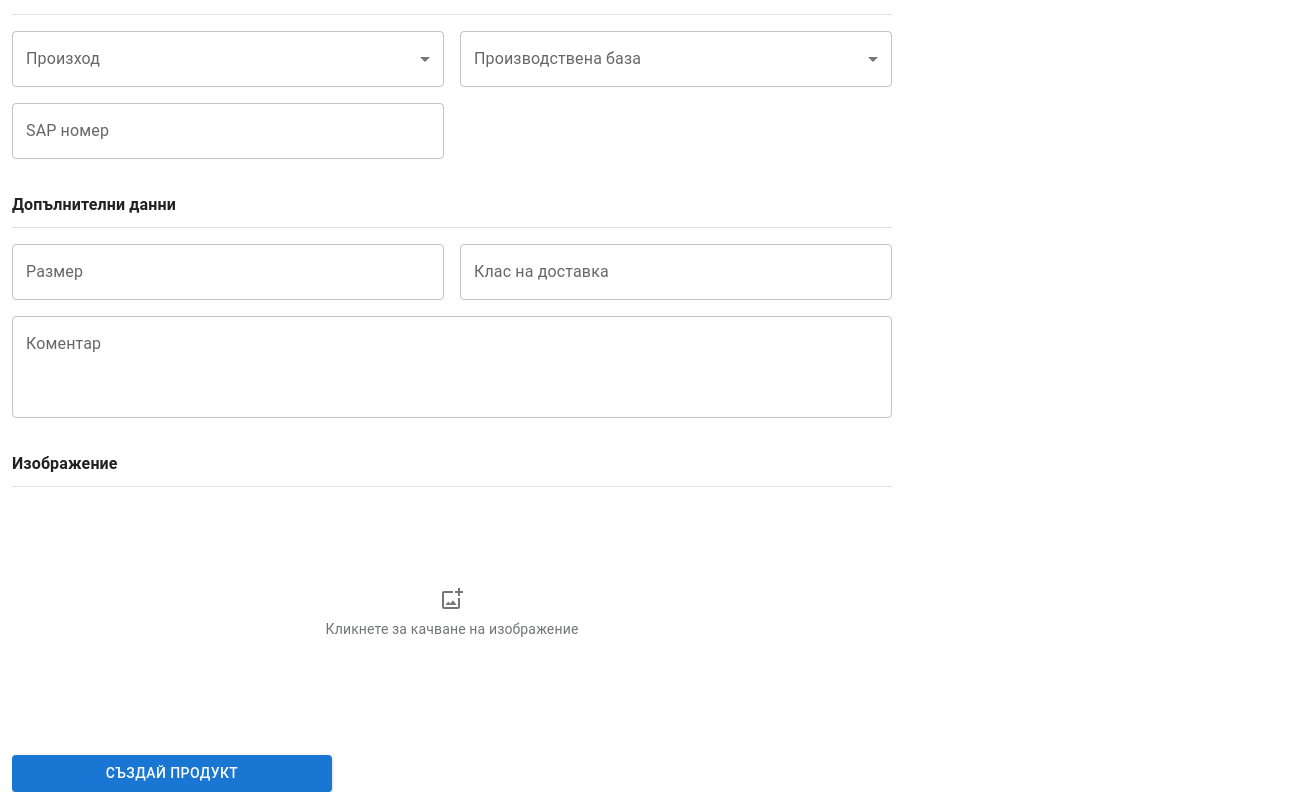
ProductForm › blocks submission and reports errors when required fields are empty
(page scrolled)
Click the button "Създай продукт" at (172, 773), box [12,755,332,791]
(page scrolled)
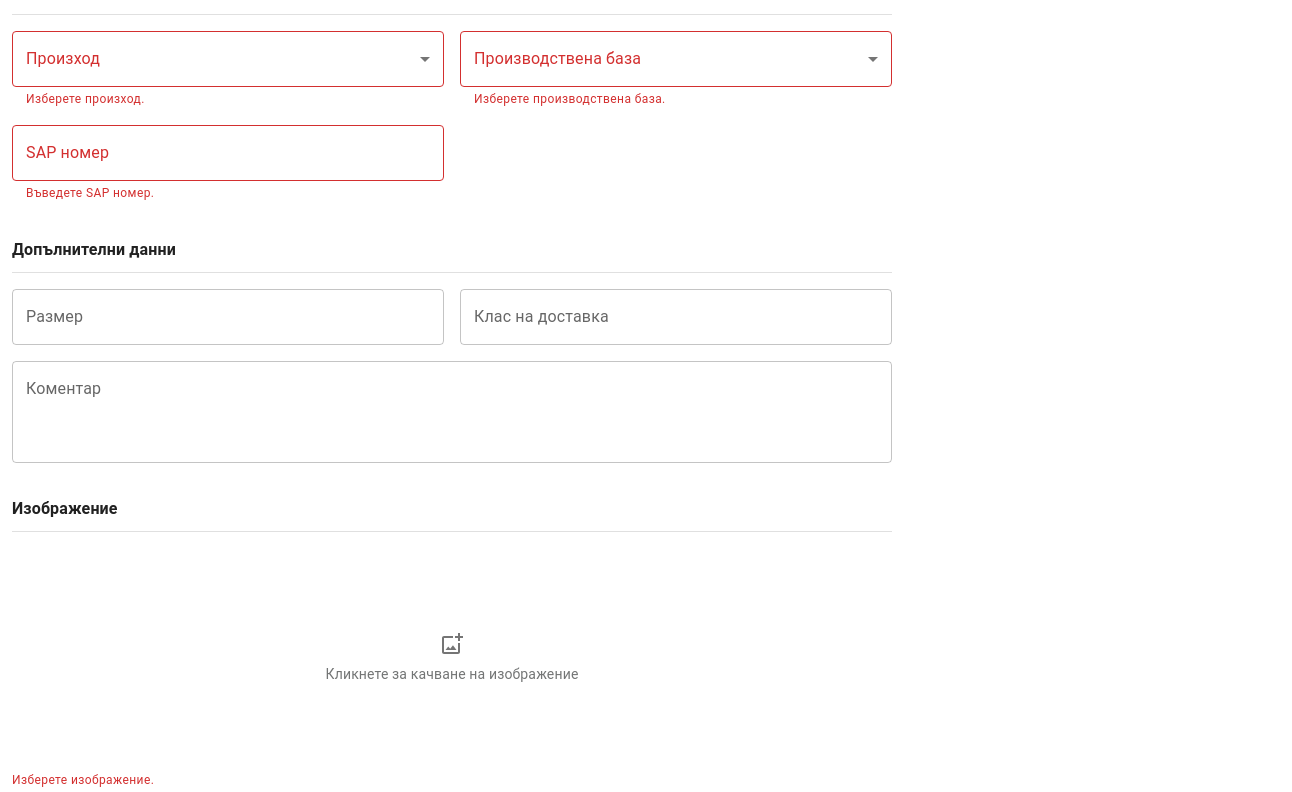
Expected: the text "Изберете произход." is shown, [26,92,145,106]
Expected: the text "Изберете изображение." is shown, [12,773,154,787]
